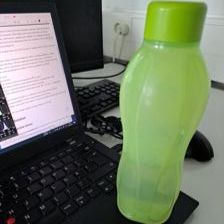bottle: (112, 0, 213, 222)
